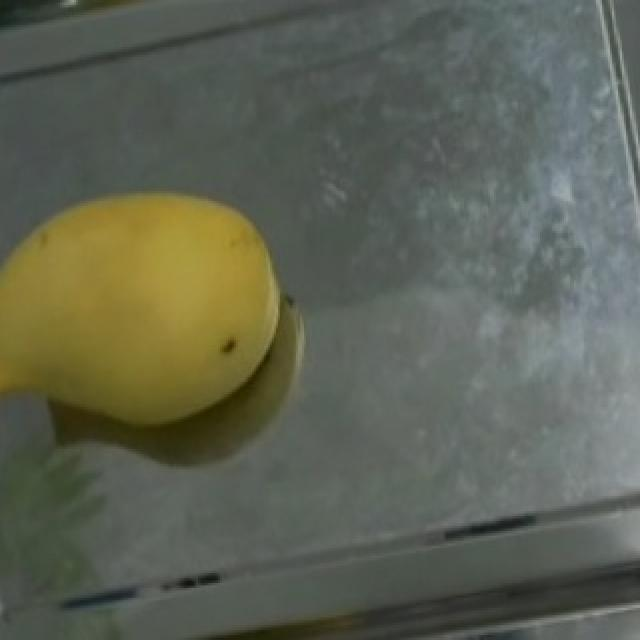fruit: (4, 134, 338, 476)
